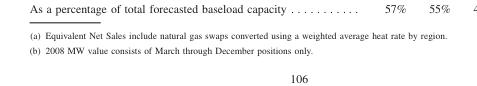table: (28, 29, 446, 55)
table column: (42, 29, 446, 55), (28, 29, 42, 55)
table row: (28, 29, 446, 42), (28, 42, 446, 55)
